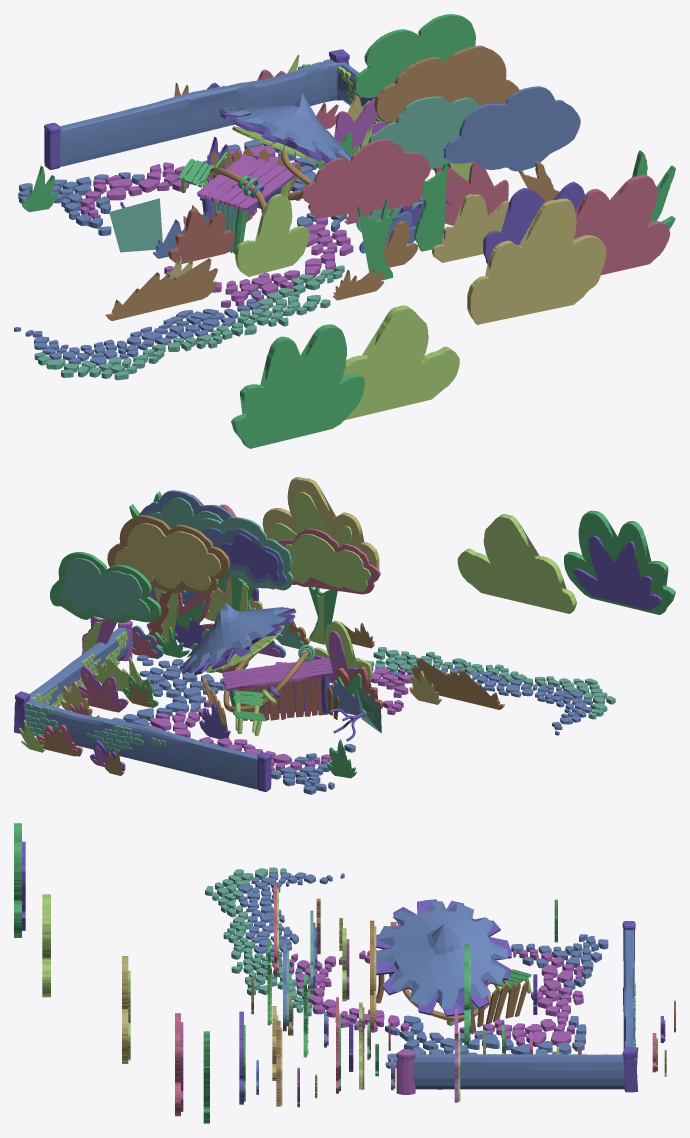
File: section_three.fbx
3 renders of one model, top to bottom at view 1: azimuth 30°, elevation 25°; view 2: azimuth 150°, elevation 25°; view 3: azimuth 270°, elevation 25°, orthographic. The views are drawn at different scales.
Parts seen in each view (by area): view 1: set.063, bush.247, bush.254, tree.227, bush.252, tree.212, bush.250, tree.218, set.069, set.073, tree.225, set.070 (+24 smaller); view 2: set.063, bush.252, tree.220, set.071, bush.254, tree.224, bush.245, tree.211, set.069, set.073, Cone, bush.247 (+39 smaller); view 3: Cone, set.063, set.069, set.071, set.073, set.070, Cone.001, set.064, bush.252, bush.254, set, bush.247 (+8 smaller).
Part boxes in pixels (box(x1,y1,x2,y2)): set.063: box(60, 60, 450, 167); bush.247: box(467, 198, 606, 324); bush.254: box(231, 324, 364, 448); tree.227: box(443, 86, 580, 171); bush.252: box(343, 305, 459, 419); tree.212: box(301, 139, 430, 217); bush.250: box(573, 174, 670, 275); tree.218: box(374, 45, 519, 123); set.069: box(80, 146, 353, 307); set.073: box(34, 265, 344, 380); tree.225: box(353, 14, 475, 97); set.070: box(14, 290, 261, 365); set.063: box(26, 627, 257, 789); bush.252: box(457, 514, 576, 613); tree.220: box(115, 523, 220, 590); set.071: box(112, 655, 355, 794); bush.254: box(564, 510, 675, 614); tree.224: box(58, 558, 150, 618); bush.245: box(572, 535, 661, 610); tree.211: box(283, 534, 370, 591); set.069: box(146, 662, 413, 771); set.073: box(355, 647, 615, 719); Cone: box(183, 602, 289, 668); bush.247: box(262, 477, 379, 569); Cone: box(376, 901, 507, 1008); set.063: box(412, 930, 634, 1089); set.069: box(289, 949, 583, 1046); set.071: box(385, 934, 608, 1068); set.073: box(205, 867, 312, 1016); set.070: box(238, 872, 344, 974); Cone.001: box(376, 899, 511, 1016); set.064: box(471, 979, 528, 1034); bush.252: box(42, 894, 50, 997); bush.254: box(14, 823, 21, 937); set: box(396, 1049, 415, 1094); bush.247: box(122, 956, 128, 1063).
Bounding box in the file's own units: 2654 × 702 × 2783.
